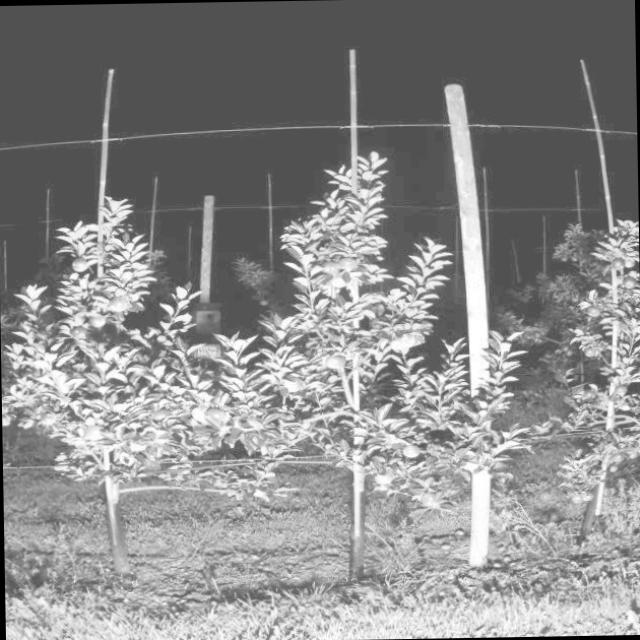Tree: (266, 156, 454, 577), (26, 206, 185, 578), (518, 222, 640, 536)
